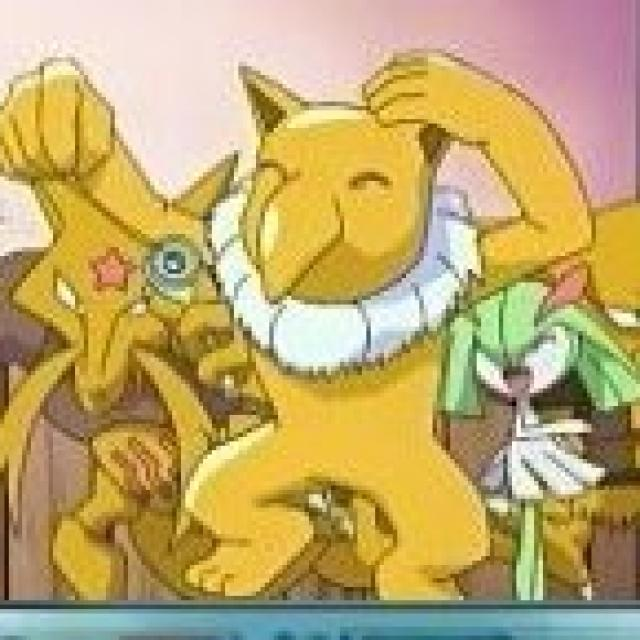Hypno: (170, 40, 580, 601)
